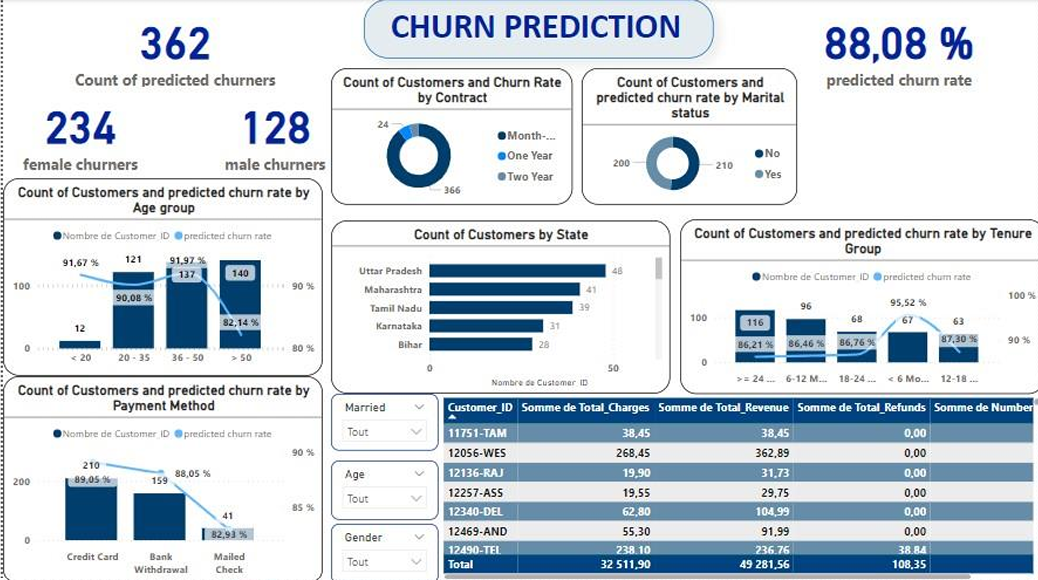

The dashboard page shown, as its layout file describes it:
{"tool":"powerbi","page":{"name":"Page 2","canvas":[1280,720],"ordinal":1},"visuals":[{"type":"card","fields":{"Values":["my measures.predicted churn rate"]},"box":[923.3,0,356.7,120],"z":0},{"type":"tableEx","fields":{"Values":["predictions.Customer_ID","Sum(predictions.Total_Charges)","Sum(predictions.Total_Revenue)","Sum(predictions.Total_Refunds)","Sum(predictions.Number_of_Referrals)"]},"box":[535,485,745,235],"z":1000},{"type":"card","fields":{"Values":["my measures.Count of predicted churning Customers"]},"box":[0,0,423.3,120],"z":2000},{"type":"card","fields":{"Values":["my measures.Count of predicted churning Customers"]},"box":[0,108.3,190,111.7],"z":3000},{"type":"card","fields":{"Values":["my measures.Count of predicted churning Customers"]},"box":[246.7,108.3,176.7,111.7],"z":4000},{"type":"lineStackedColumnComboChart","title":"Count of Customers and predicted churn rate by Age group","fields":{"Category":["mapping age groups.Age group"],"Y":["CountNonNull(predictions.Customer_ID)"],"Y2":["my measures.predicted churn rate"]},"box":[0,220,393.3,243.3],"z":5000},{"type":"donutChart","title":"Count of Customers and predicted churn rate by Marital status","fields":{"Category":["predictions.Married"],"Y":["CountNonNull(predictions.Customer_ID)"]},"box":[711.7,85,265,168.3],"z":6000},{"type":"lineStackedColumnComboChart","title":"Count of Customers and predicted churn rate by Tenure Group ","fields":{"Y":["CountNonNull(predictions.Customer_ID)"],"Y2":["my measures.predicted churn rate"],"Category":["mapping_TenureGrp.Tenure Group "]},"box":[831.7,270,448.3,215],"z":7000},{"type":"lineStackedColumnComboChart","title":"Count of Customers and predicted churn rate by Payment Method","fields":{"Y":["CountNonNull(predictions.Customer_ID)"],"Y2":["my measures.predicted churn rate"],"Category":["predictions.Payment_Method"]},"box":[0,463.3,393.3,256.7],"z":8000},{"type":"donutChart","title":"Count of Customers and Churn Rate by Contract","fields":{"Category":["predictions.Contract"],"Y":["CountNonNull(predictions.Customer_ID)"]},"box":[403.3,85,296.7,168.3],"z":9000},{"type":"barChart","title":"Count of Customers by State","fields":{"Category":["predictions.State"],"Y":["CountNonNull(predictions.Customer_ID)"]},"box":[403.3,271.7,416.7,213.3],"z":10000},{"type":"textbox","box":[443.3,0,430,73.3],"z":11000},{"type":"slicer","fields":{"Values":["predictions.Gender"]},"box":[403.3,566.7,131.7,73.3],"z":12000},{"type":"slicer","fields":{"Values":["predictions.Married"]},"box":[403.3,485,131.7,70],"z":13000},{"type":"slicer","fields":{"Values":["predictions.Age"]},"box":[403.3,645,131.7,75],"z":14000}]}

Visuals, with their boxes in screenshot pixels (x1, y1, x2, y2), scaled from the page's 1280x720 canvas onto the 1038x580 screenshot:
card - my measures.predicted churn rate: select_region(749, 0, 1037, 97)
tableEx - predictions.Customer_ID x Sum(predictions.Total_Charges): select_region(434, 391, 1037, 579)
card - my measures.Count of predicted churning Customers: select_region(0, 0, 343, 97)
card - my measures.Count of predicted churning Customers: select_region(0, 87, 154, 177)
card - my measures.Count of predicted churning Customers: select_region(200, 87, 343, 177)
"Count of Customers and predicted churn rate by Age group" lineStackedColumnComboChart: select_region(0, 177, 319, 373)
"Count of Customers and predicted churn rate by Marital status" donutChart: select_region(577, 68, 792, 204)
"Count of Customers and predicted churn rate by Tenure Group " lineStackedColumnComboChart: select_region(674, 218, 1037, 391)
"Count of Customers and predicted churn rate by Payment Method" lineStackedColumnComboChart: select_region(0, 373, 319, 579)
"Count of Customers and Churn Rate by Contract" donutChart: select_region(327, 68, 568, 204)
"Count of Customers by State" barChart: select_region(327, 219, 665, 391)
textbox: select_region(359, 0, 708, 59)
slicer - predictions.Gender: select_region(327, 457, 434, 516)
slicer - predictions.Married: select_region(327, 391, 434, 447)
slicer - predictions.Age: select_region(327, 520, 434, 579)
